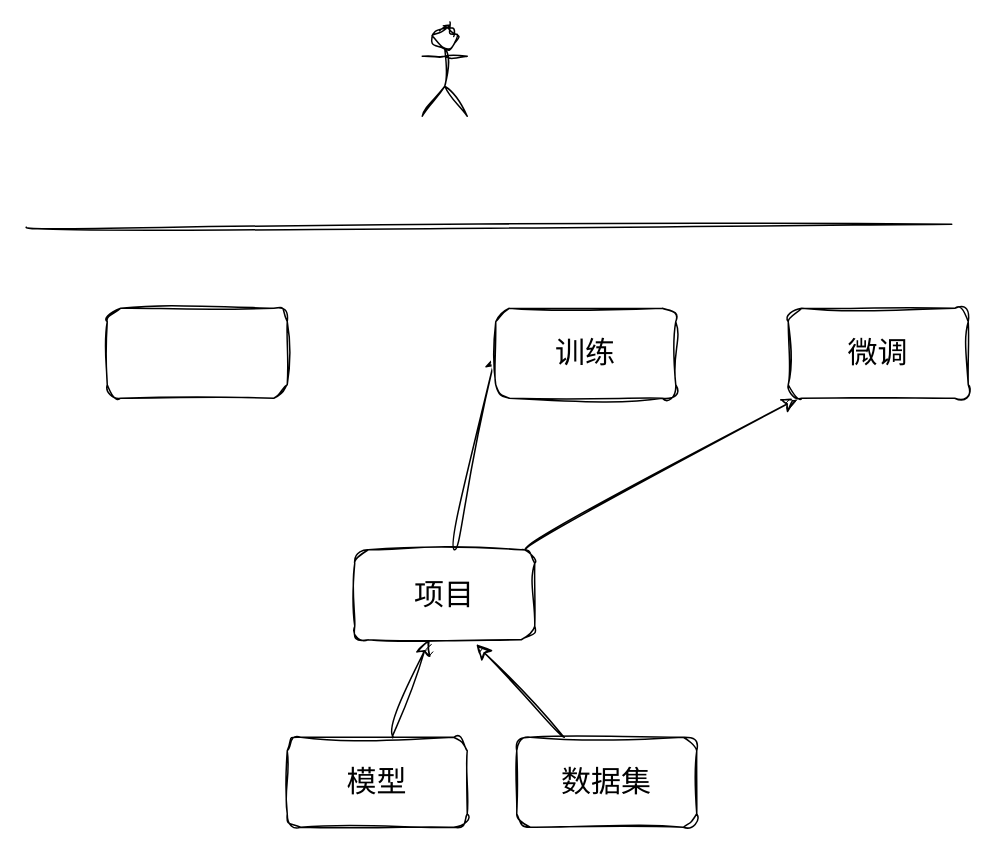
Image size: 996x854. Some labels were removed from this diagram. Each missing label, with the centre of its shape:
Actor: the point at 444,70
模型体验: the point at 196,352
